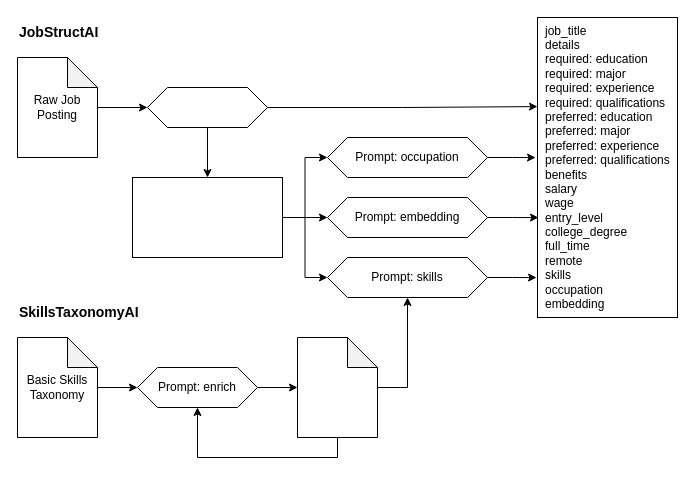
This 695x483 diagram has some shape labels left out. Each missing label, with the centre of its shape:
"job_title details required: qualifications preferred: qualitfications" goes at pixel 207 217.
"Prompt: extract" goes at pixel 207 107.
"Skills Taxonomy" goes at pixel 337 387.
